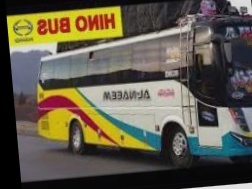bus: (30, 8, 252, 179)
